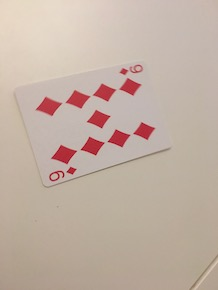NineOfDiamonds: (15, 54, 176, 188)
